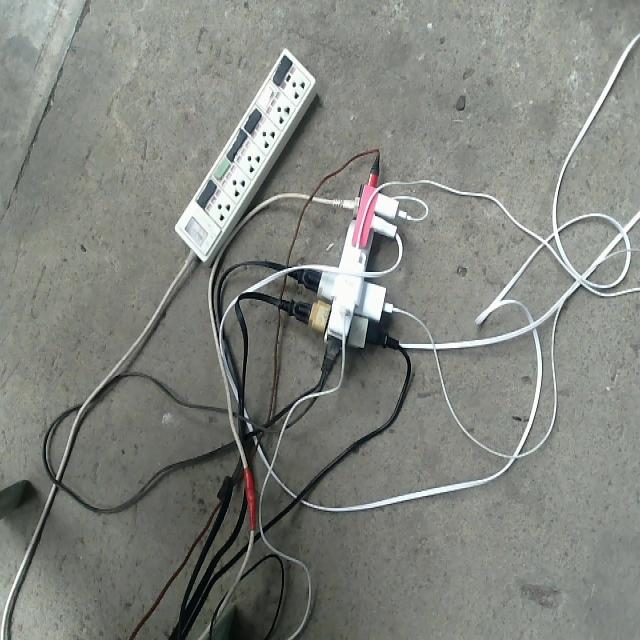-: (279, 155, 410, 384)
